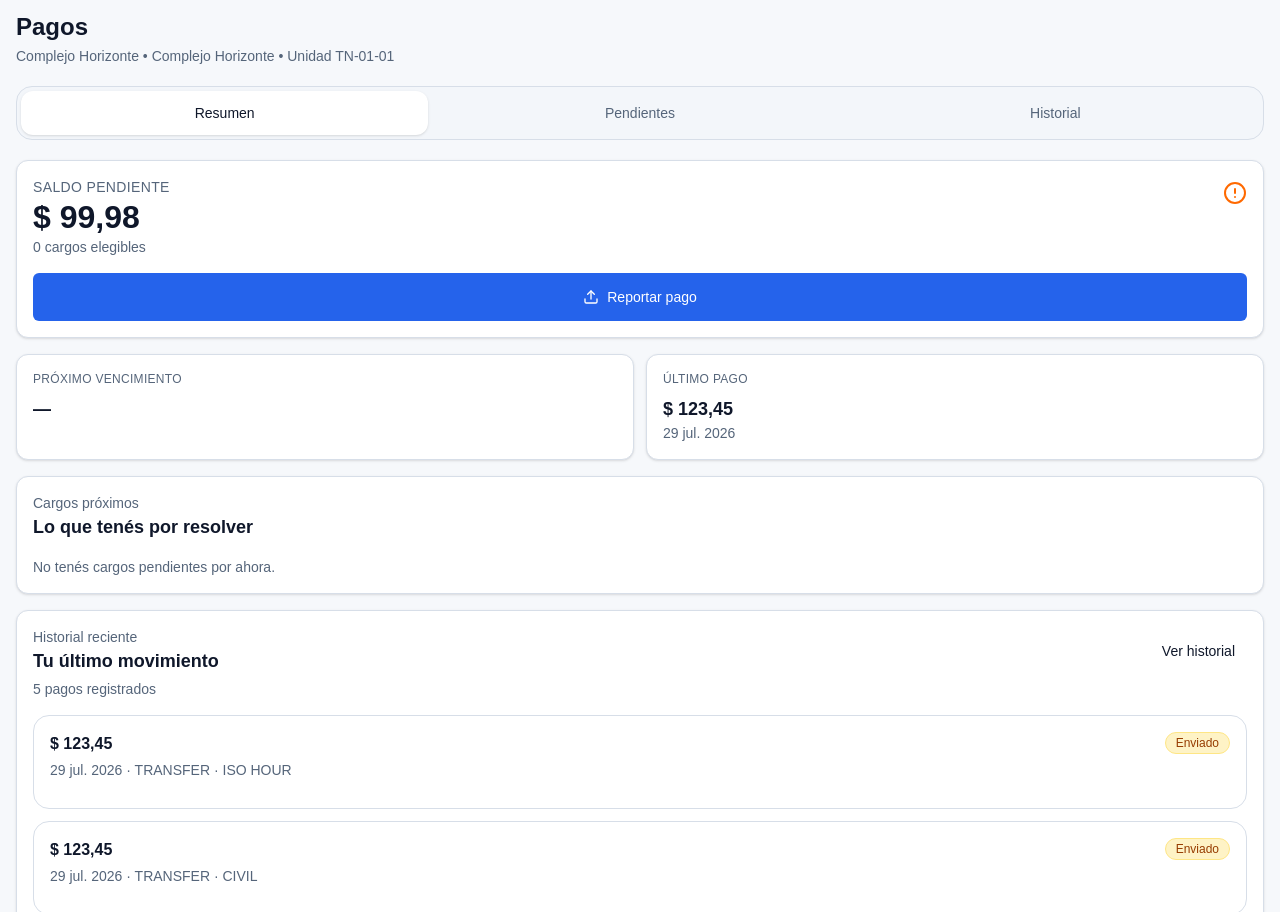
ResidentPaymentsPage › formats civil and ISO timestamps without shifting the day in the mobile history list
The image size is (1280, 912).
What coordinates should you click on to do the following:
click the tab "Historial"
I would click on:
 (1055, 113)
Its box is [852,91,1259,135].
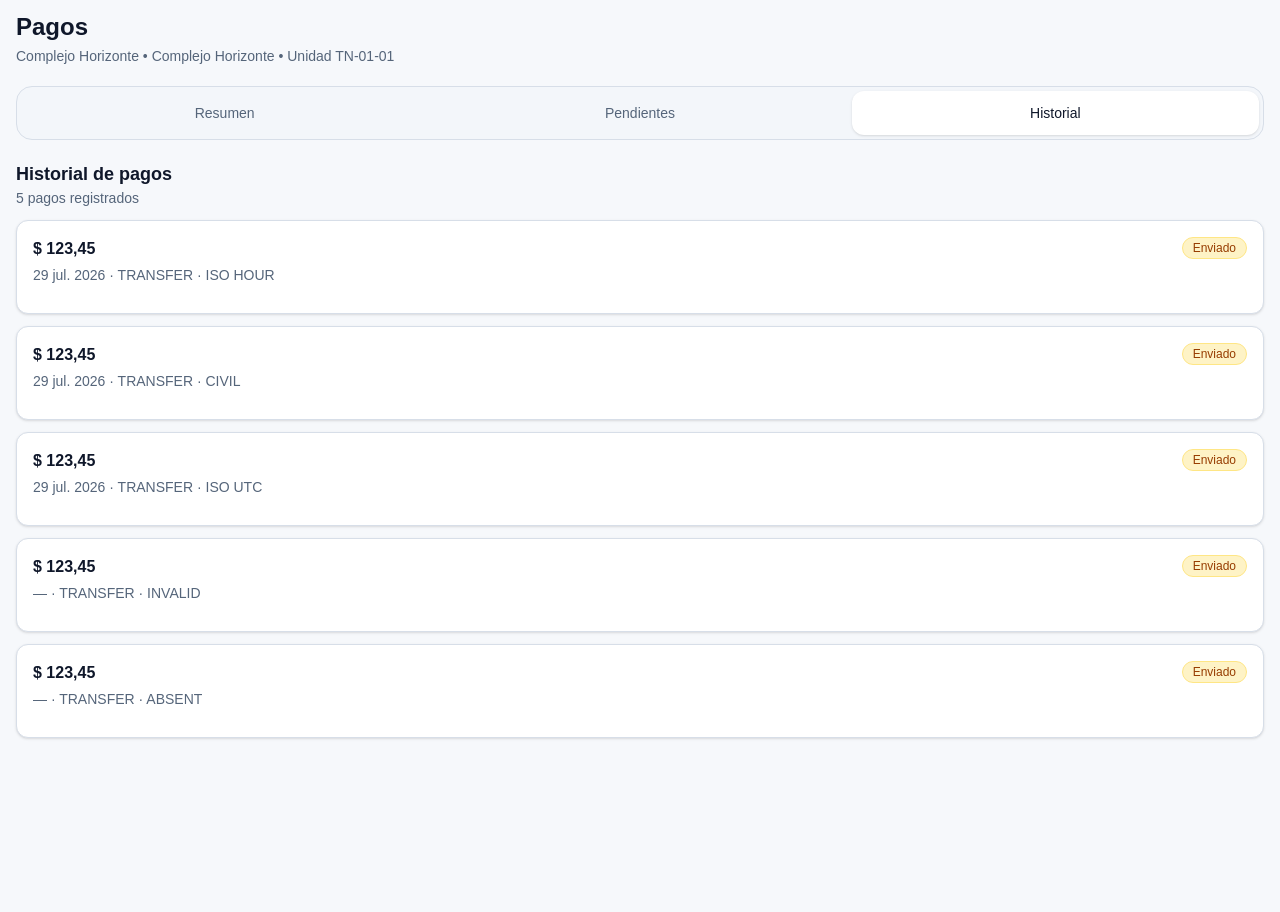
Expected: the panel with id "resident-payments-mobile-history" is shown
Expected: the text "29 jul. 2026 · TRANSFER · ISO UTC" is shown, [33,479,262,495]
Expected: the text "— · TRANSFER · INVALID" is shown, [33,585,200,601]
